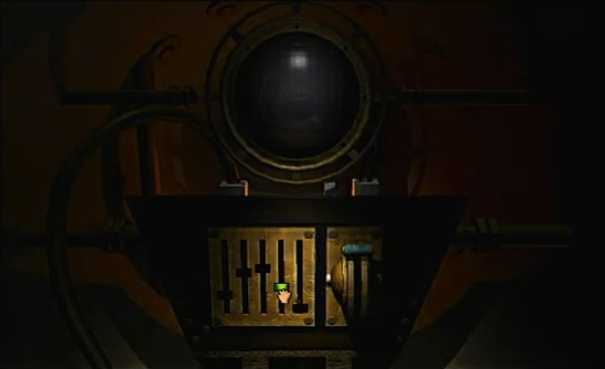Hold: (275, 287, 294, 305)
